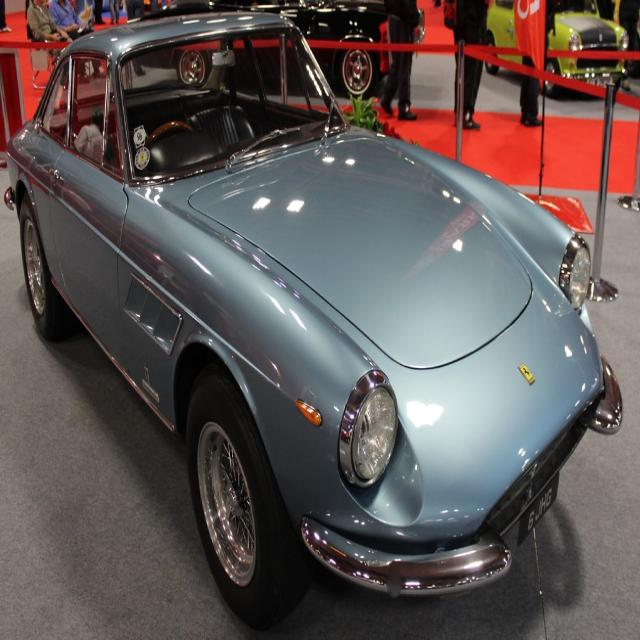car: (4, 14, 625, 626)
